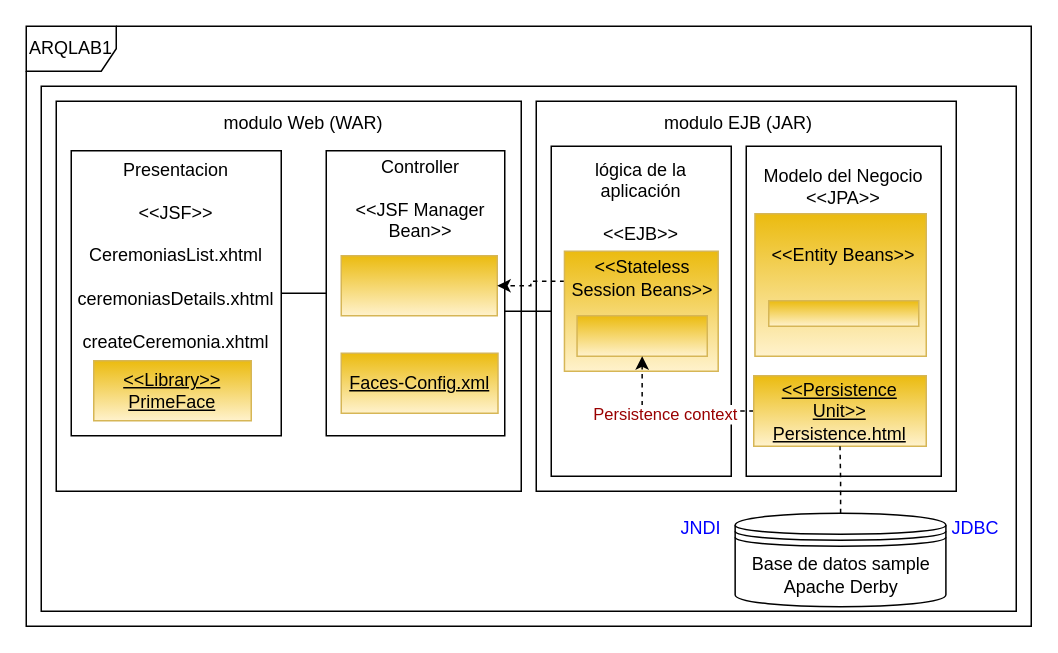
The diagram is 1058 pixels wide and 653 high, and some of its shapes have lost their labels. Here are the shapes that lost their labels. From the top down, the centre of each, then its label:
At point (418, 285): "CeremoniasMBean".
At point (843, 312): "CeremoniaGrados".
At point (641, 335): "CeremoniasManager".
